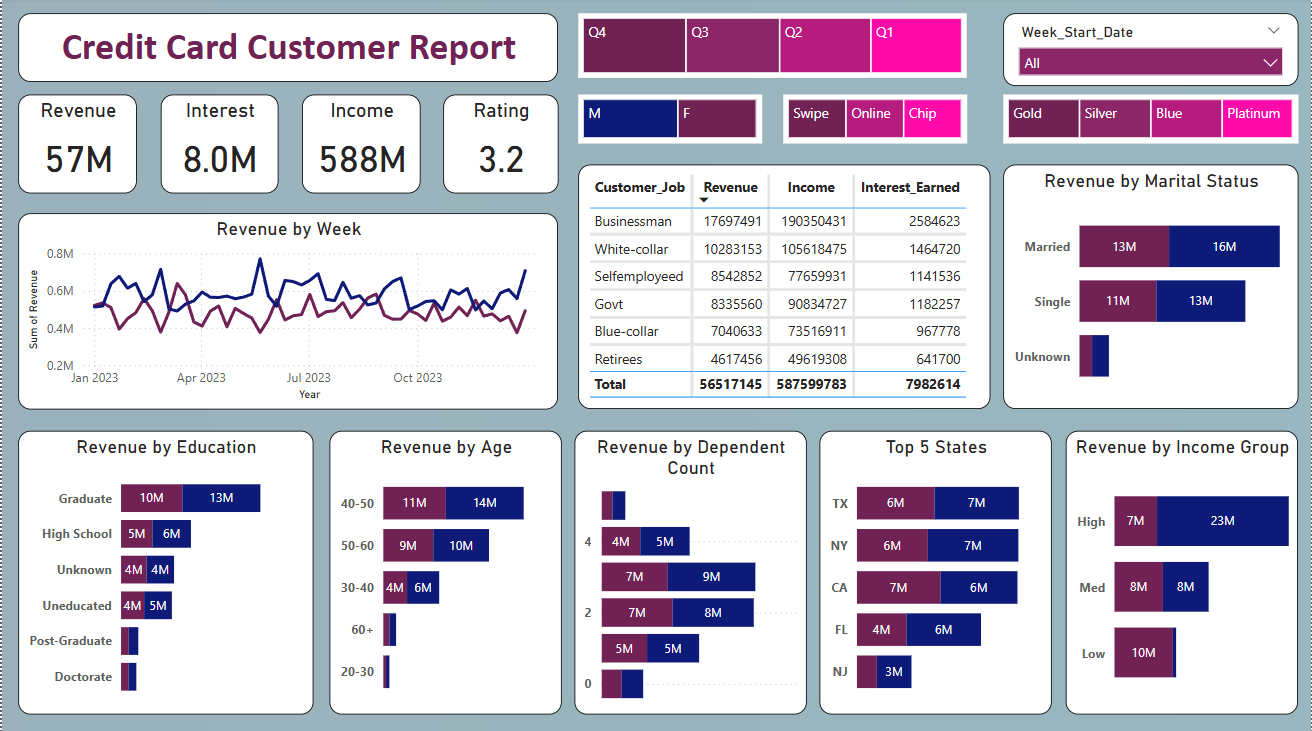

This screenshot's page, from the dashboard's own definition file:
{"tool":"powerbi","page":{"name":"CC_Customer","canvas":[1280,720],"ordinal":2},"visuals":[{"type":"textbox","box":[15.9,15.9,528.1,67.2],"z":0},{"type":"barChart","title":"Revenue by Age","fields":{"Y":["Sum(ccdb cc_detail.Revenue)"],"Category":["ccdb cust_detail.Age_Group"],"Series":["ccdb cust_detail.Gender"]},"box":[320.7,424.2,227.4,277.5],"z":1000},{"type":"barChart","title":"Revenue by Income Group","fields":{"Y":["Sum(ccdb cc_detail.Revenue)"],"Category":["ccdb cust_detail.Income_Group"],"Series":["ccdb cust_detail.Gender"]},"box":[1040.3,424.2,227,277.5],"z":2000},{"type":"barChart","title":"Revenue by Dependent Count","fields":{"Y":["Sum(ccdb cc_detail.Revenue)"],"Category":["ccdb cust_detail.Dependent_Count"],"Series":["ccdb cust_detail.Gender"]},"box":[560.7,424.2,227,277.5],"z":3000},{"type":"barChart","title":"Revenue by Education","fields":{"Y":["Sum(ccdb cc_detail.Revenue)"],"Category":["ccdb cust_detail.Education_Level"],"Series":["ccdb cust_detail.Gender"]},"box":[15.9,424.2,288.5,277.5],"z":4000},{"type":"barChart","title":"Top 5 States","fields":{"Y":["Sum(ccdb cc_detail.Revenue)"],"Category":["ccdb cust_detail.state_cd"],"Series":["ccdb cust_detail.Gender"]},"box":[800.3,424.2,227.4,277.5],"z":5000},{"type":"tableEx","fields":{"Values":["ccdb cust_detail.Customer_Job","Sum(ccdb cc_detail.Revenue)","Sum(ccdb cust_detail.Income)","Sum(ccdb cc_detail.Interest_Earned)"]},"box":[563.5,163.8,403.4,239.6],"z":6000},{"type":"card","title":"Revenue","fields":{"Values":["Sum(ccdb cc_detail.Revenue)"]},"box":[15.9,95.3,116.1,96.6],"z":7000},{"type":"card","title":"Interest","fields":{"Values":["Sum(ccdb cc_detail.Interest_Earned)"]},"box":[155.2,95.3,114.9,96.6],"z":8000},{"type":"card","title":"Income","fields":{"Values":["Sum(ccdb cust_detail.Income)"]},"box":[293.4,95.3,116.1,96.6],"z":9000},{"type":"card","title":"Rating","fields":{"Values":["Avg(ccdb cust_detail.Cust_Satisfaction_Score)"]},"box":[431.5,95.3,112.5,96.6],"z":10000},{"type":"slicer","fields":{"Values":["ccdb cc_detail.Week_Start_Date"]},"box":[979.2,15.9,288.5,70.9],"z":11000},{"type":"treemap","fields":{"Group":["ccdb cc_detail.Qtr"],"Values":["Avg(ccdb cc_detail.ï»¿Client_Num)"]},"box":[563.5,15.9,380,63.6],"z":12000},{"type":"treemap","fields":{"Group":["ccdb cc_detail.Card_Category"],"Values":["Avg(ccdb cc_detail.ï»¿Client_Num)"]},"box":[979.2,95.3,288.5,47.7],"z":13000},{"type":"treemap","fields":{"Values":["Avg(ccdb cc_detail.ï»¿Client_Num)"],"Group":["ccdb cc_detail.Use Chip"]},"box":[764,95.3,179.7,47.7],"z":14000},{"type":"lineChart","title":"Revenue by Week","fields":{"Category":["ccdb cc_detail.Week_Start_Date.Variation.Date Hierarchy.Year","ccdb cc_detail.Week_Start_Date.Variation.Date Hierarchy.Quarter","ccdb cc_detail.Week_Start_Date.Variation.Date Hierarchy.Month","ccdb cc_detail.Week_Start_Date.Variation.Date Hierarchy.Day"],"Y":["Sum(ccdb cc_detail.Revenue)"],"Series":["ccdb cust_detail.Gender"]},"box":[15.9,211.5,528.1,191.9],"z":15000},{"type":"treemap","fields":{"Group":["ccdb cust_detail.Gender"],"Values":["Sum(ccdb cc_detail.Revenue)"]},"box":[563.5,95.3,179.7,47.7],"z":16000},{"type":"barChart","title":"Revenue by Marital Status","fields":{"Y":["Sum(ccdb cc_detail.Revenue)"],"Category":["ccdb cust_detail.Marital_Status"],"Series":["ccdb cust_detail.Gender"]},"box":[979.2,163.8,288.5,239.6],"z":17000}]}

Visuals, with their boxes in screenshot pixels (x1, y1, x2, y2), scaled from the page's 1280x720 canvas onto the 1312x731 screenshot:
textbox: (x1=16, y1=16, x2=558, y2=84)
"Revenue by Age" barChart: (x1=329, y1=431, x2=562, y2=712)
"Revenue by Income Group" barChart: (x1=1066, y1=431, x2=1299, y2=712)
"Revenue by Dependent Count" barChart: (x1=575, y1=431, x2=807, y2=712)
"Revenue by Education" barChart: (x1=16, y1=431, x2=312, y2=712)
"Top 5 States" barChart: (x1=820, y1=431, x2=1053, y2=712)
tableEx - ccdb cust_detail.Customer_Job x Sum(ccdb cc_detail.Revenue): (x1=578, y1=166, x2=991, y2=410)
"Revenue" card: (x1=16, y1=97, x2=135, y2=195)
"Interest" card: (x1=159, y1=97, x2=277, y2=195)
"Income" card: (x1=301, y1=97, x2=420, y2=195)
"Rating" card: (x1=442, y1=97, x2=558, y2=195)
slicer - ccdb cc_detail.Week_Start_Date: (x1=1004, y1=16, x2=1299, y2=88)
treemap - ccdb cc_detail.Qtr x Avg(ccdb cc_detail.ï»¿Client_Num): (x1=578, y1=16, x2=967, y2=81)
treemap - ccdb cc_detail.Card_Category x Avg(ccdb cc_detail.ï»¿Client_Num): (x1=1004, y1=97, x2=1299, y2=145)
treemap - Avg(ccdb cc_detail.ï»¿Client_Num) x ccdb cc_detail.Use Chip: (x1=783, y1=97, x2=967, y2=145)
"Revenue by Week" lineChart: (x1=16, y1=215, x2=558, y2=410)
treemap - ccdb cust_detail.Gender x Sum(ccdb cc_detail.Revenue): (x1=578, y1=97, x2=762, y2=145)
"Revenue by Marital Status" barChart: (x1=1004, y1=166, x2=1299, y2=410)
